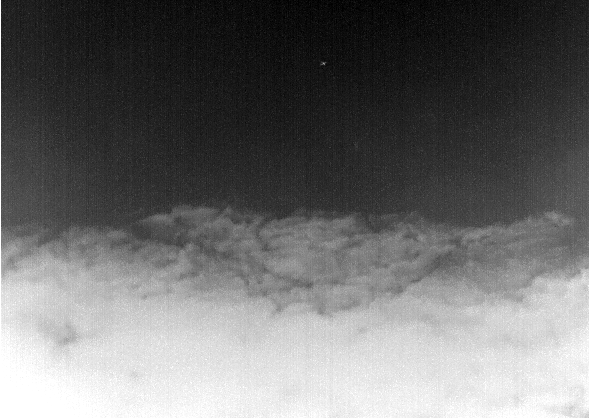dim target: (319, 59, 328, 67)
